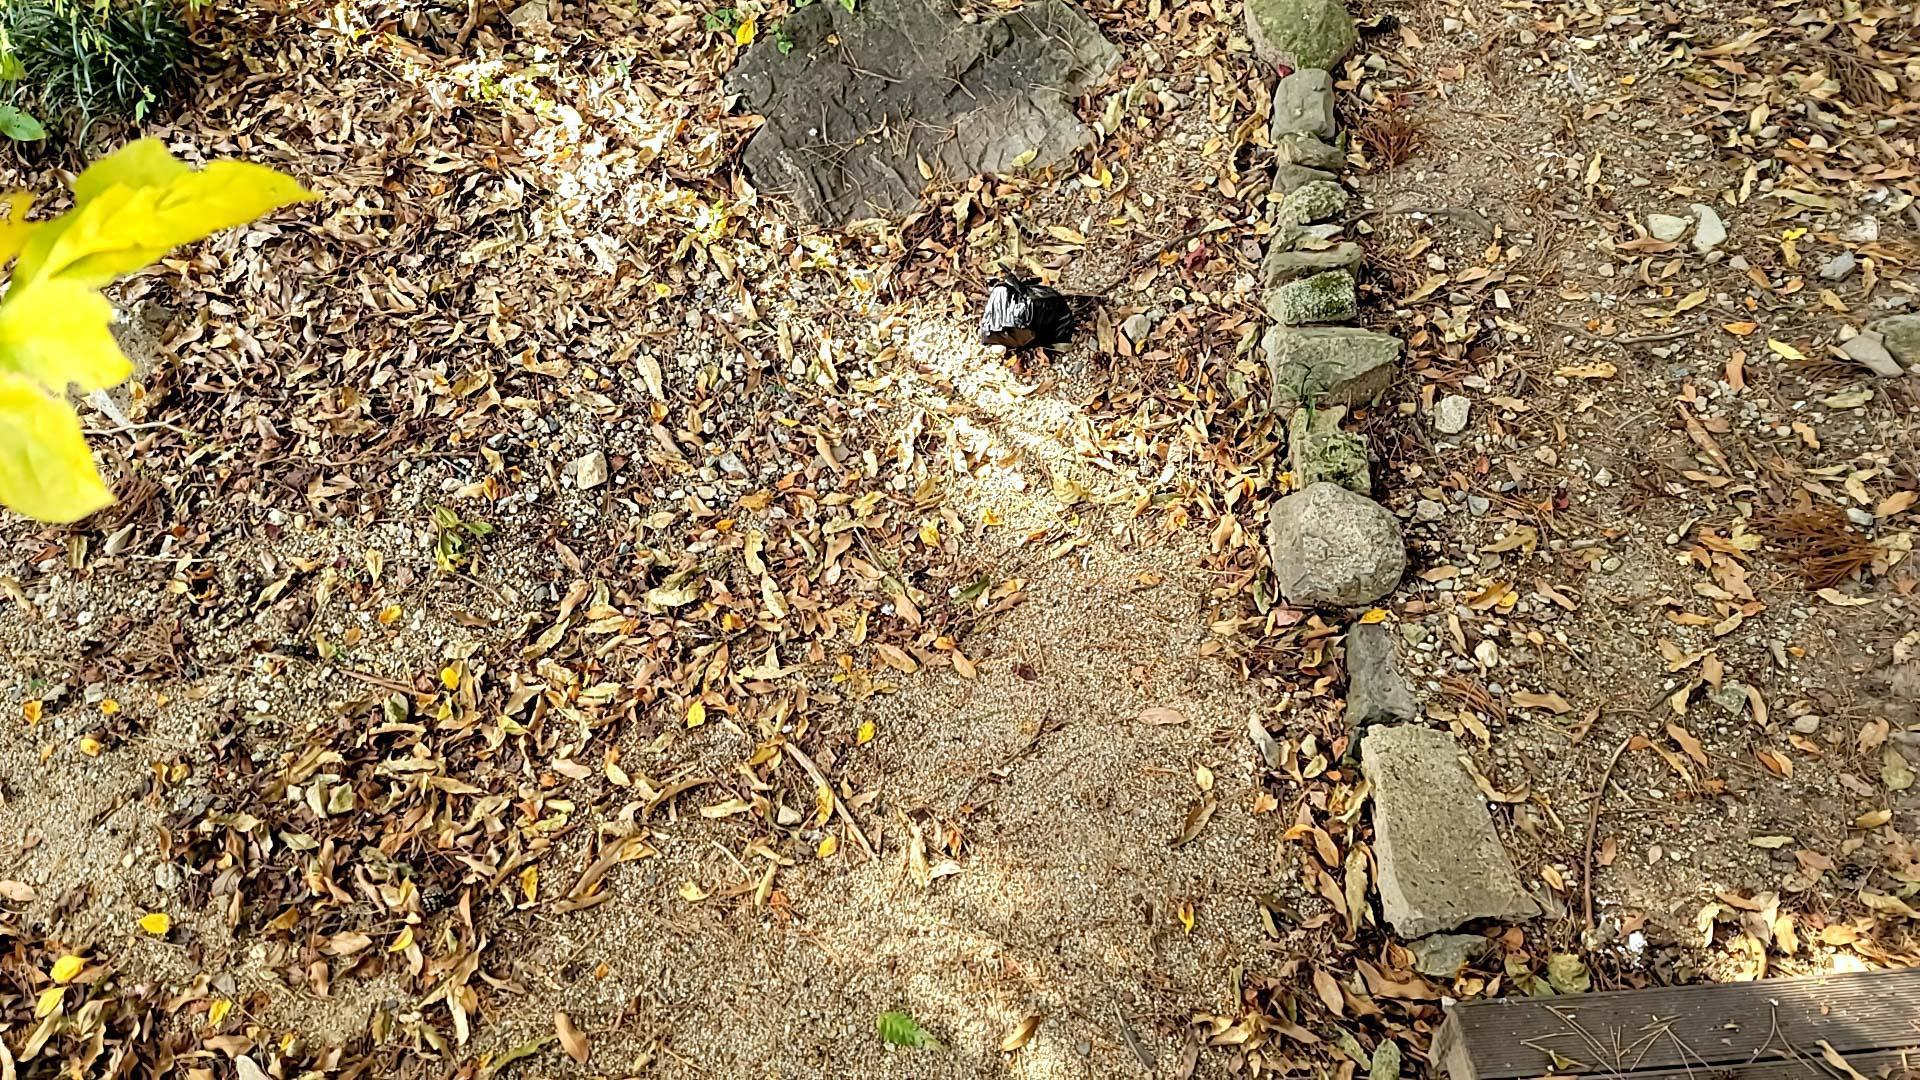black_bag: (969, 258, 1084, 355)
